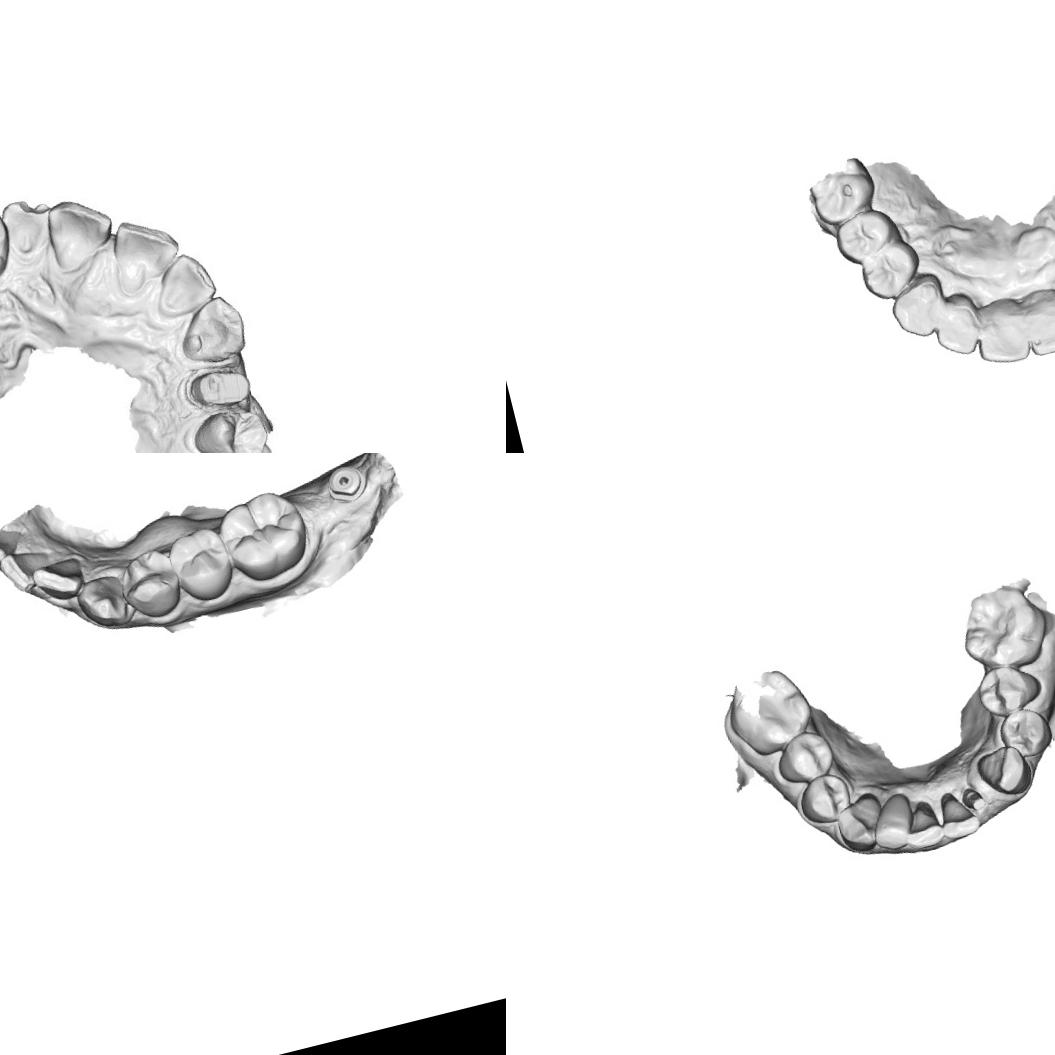abutment: (958, 784, 990, 816)
canine: (170, 293, 250, 371), (70, 570, 136, 636), (884, 276, 948, 344), (972, 738, 1036, 802), (830, 789, 890, 856), (0, 204, 19, 283)
crown: (188, 358, 252, 412)
implant: (322, 456, 371, 508)
incisor: (98, 207, 182, 294), (42, 190, 120, 272), (966, 293, 1034, 370), (150, 250, 220, 323), (0, 187, 59, 266), (926, 297, 984, 363), (865, 790, 920, 854), (30, 553, 92, 608), (0, 541, 58, 598), (1015, 282, 1055, 359), (900, 804, 946, 851), (936, 804, 982, 844), (0, 519, 28, 566)
molar: (211, 483, 316, 589), (951, 576, 1055, 677), (718, 662, 820, 764), (807, 166, 882, 228)
premolar: (162, 522, 238, 610), (112, 544, 184, 626), (854, 236, 927, 306), (828, 202, 902, 270), (971, 656, 1047, 722), (187, 396, 271, 453), (771, 727, 839, 788), (796, 768, 856, 830), (993, 702, 1055, 762)
